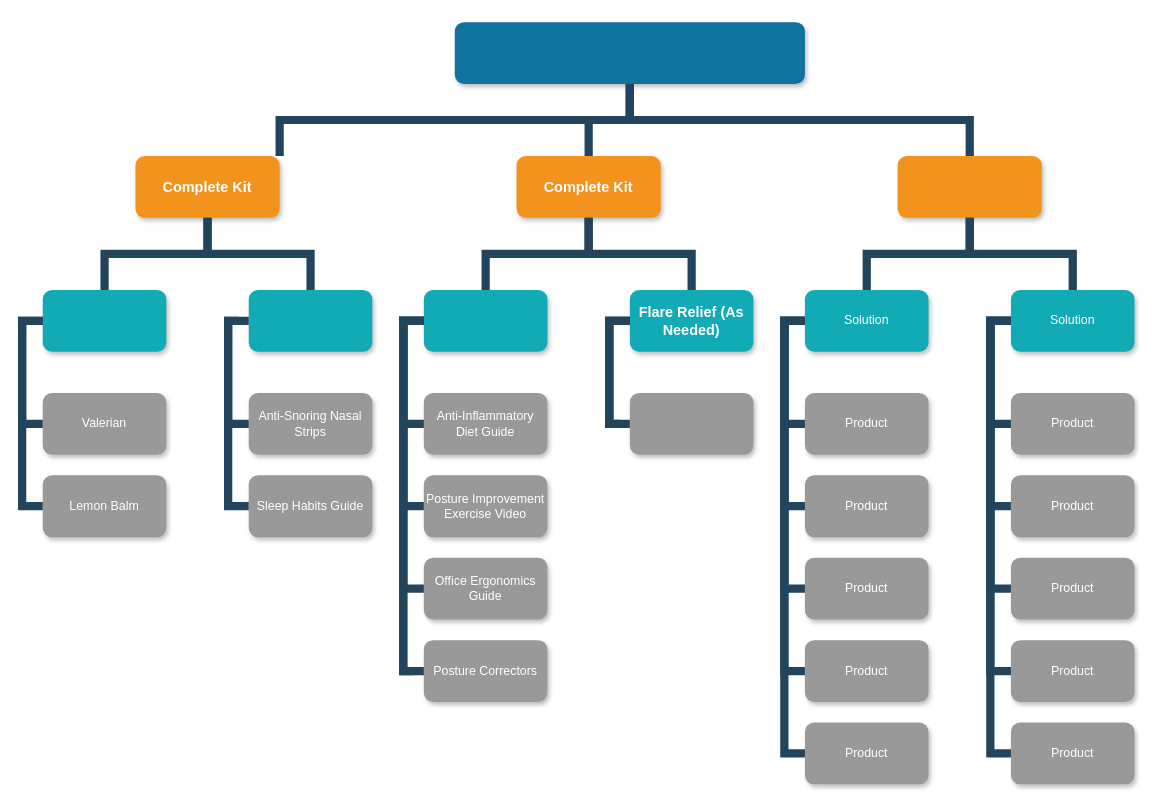
The diagram is 1158 pixels wide and 809 high, and some of its shapes have lost their labels. Each missing label, with the centre of its shape:
30 Day Supplement Pack: pixel 105 321
Capsicum: pixel 692 424
kit: pixel 970 188
Lifestyle Adjustments: pixel 486 321
Plans: pixel 630 54
Sleep Routine Tips: pixel 311 321
